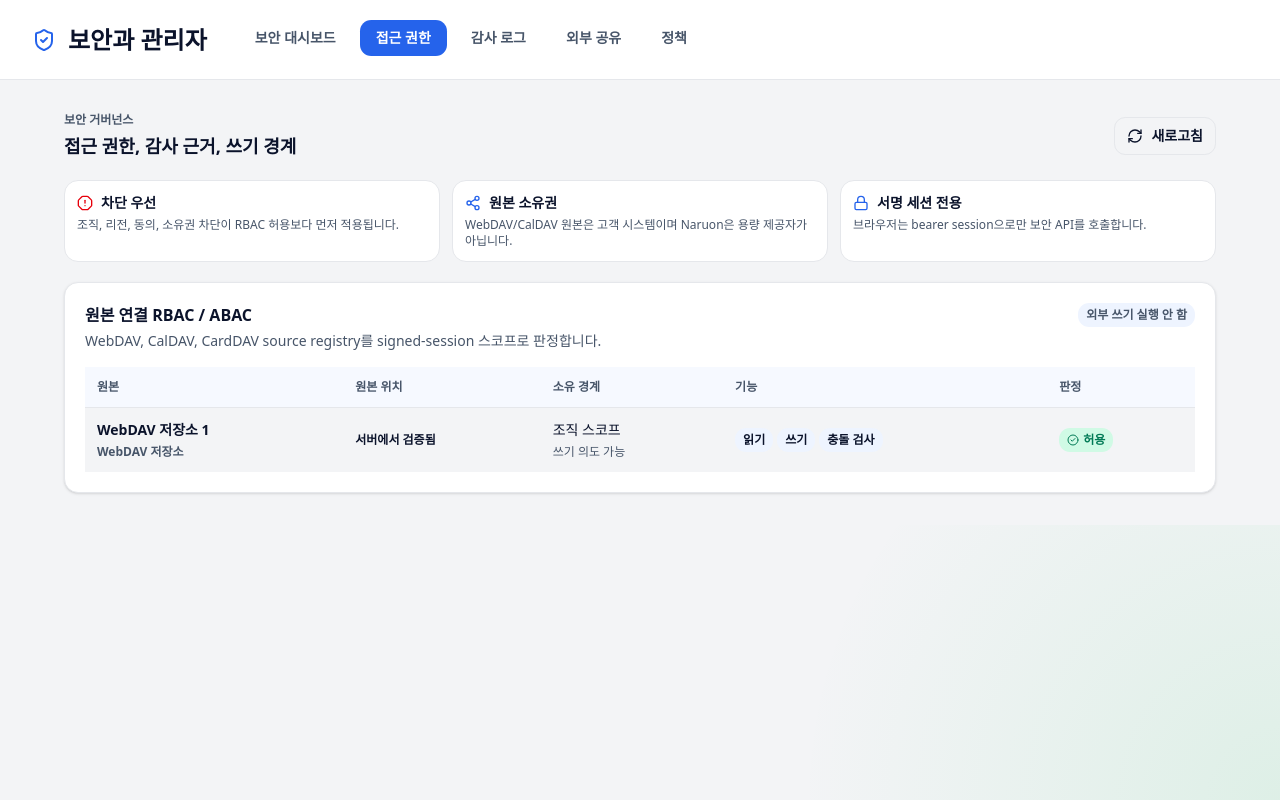
SecurityPage › keeps sparse security sections visible and source-backed instead of blank
Click the button "보안 대시보드" at coordinates (295, 38), box [239,20,352,56]
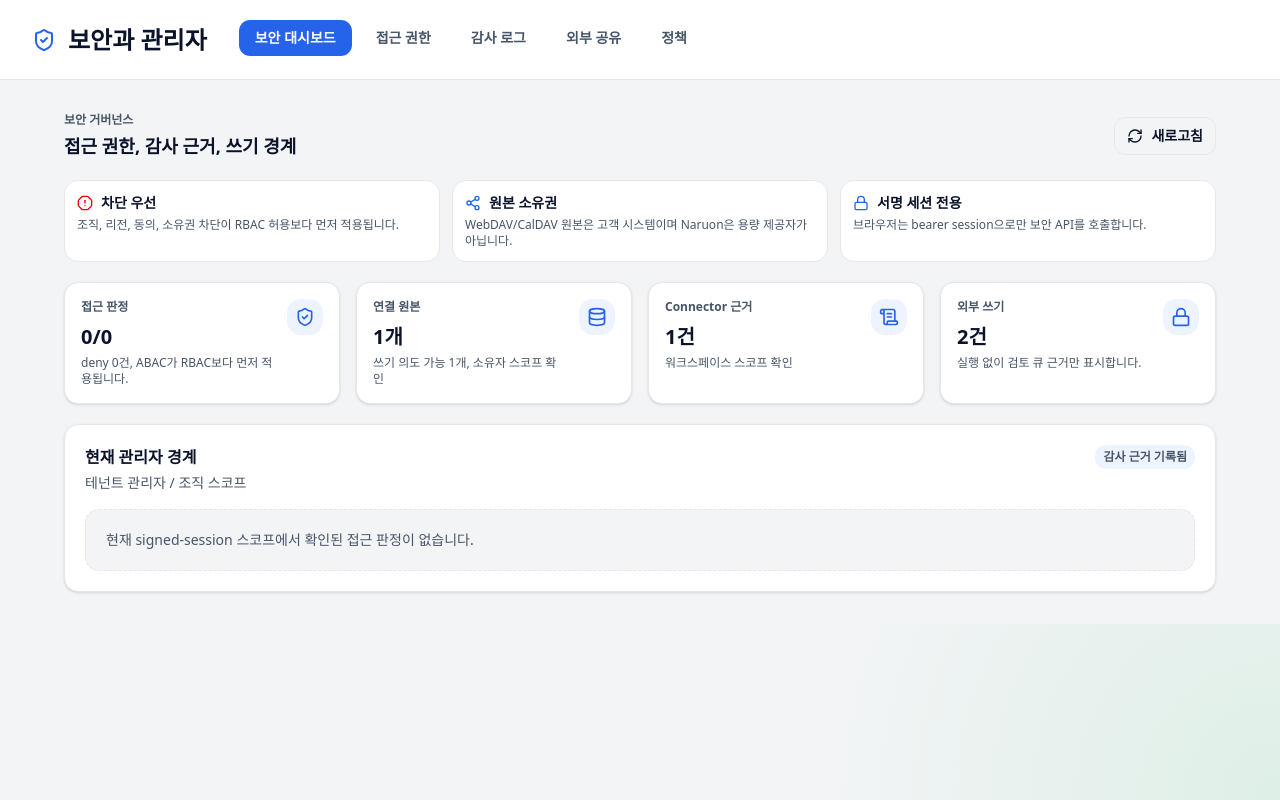
Result: the text "2건" is shown at [957,323,987,350]
Result: the text "현재 signed-session 스코프에서 확인된 접근 판정이 없습니다." is shown at [85,509,1195,571]
Result: the message "현재 signed-session 스코프에서 확인된 접근 판정이 없습니다." is shown at [85,509,1195,571]
Click the button "정책" at coordinates (674, 38), box [645,20,703,56]
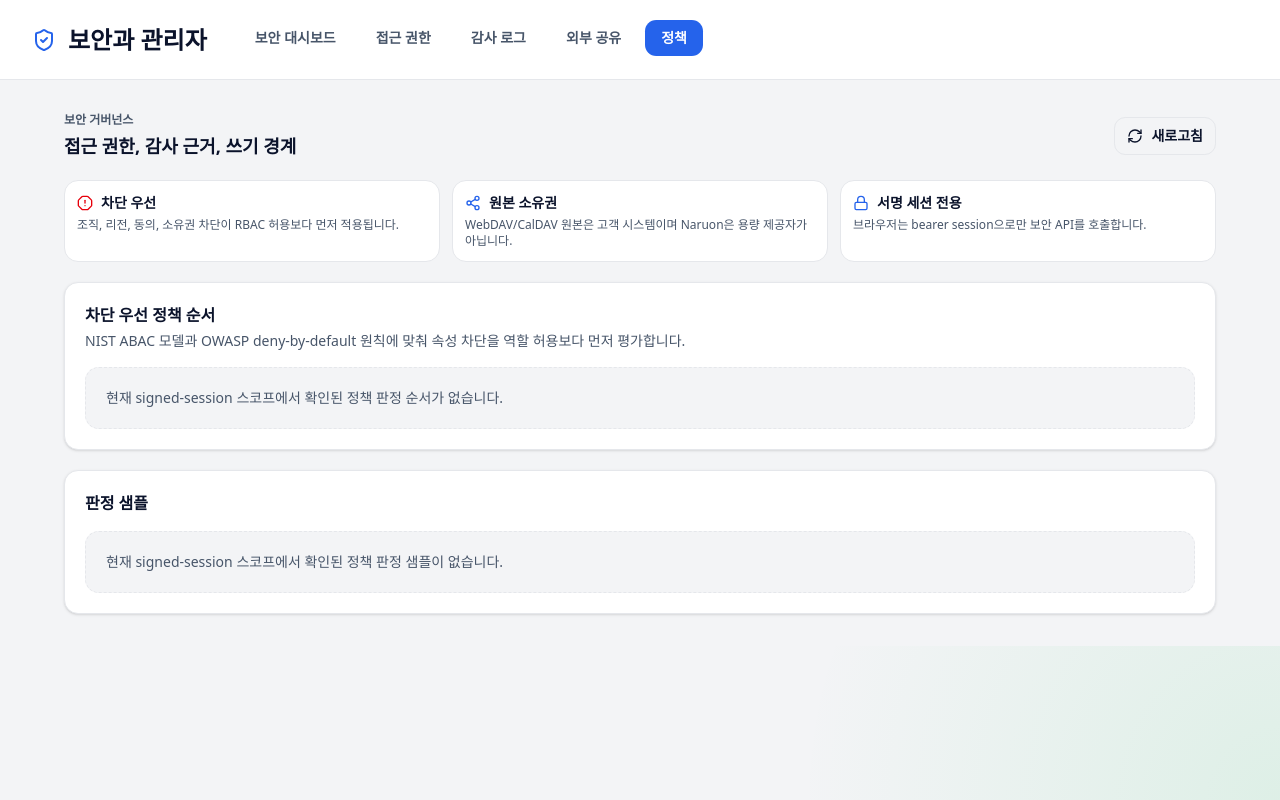
Result: the text "현재 signed-session 스코프에서 확인된 정책 판정 순서가 없습니다." is shown at [85,367,1195,429]
Result: the text "현재 signed-session 스코프에서 확인된 정책 판정 샘플이 없습니다." is shown at [85,531,1195,593]
